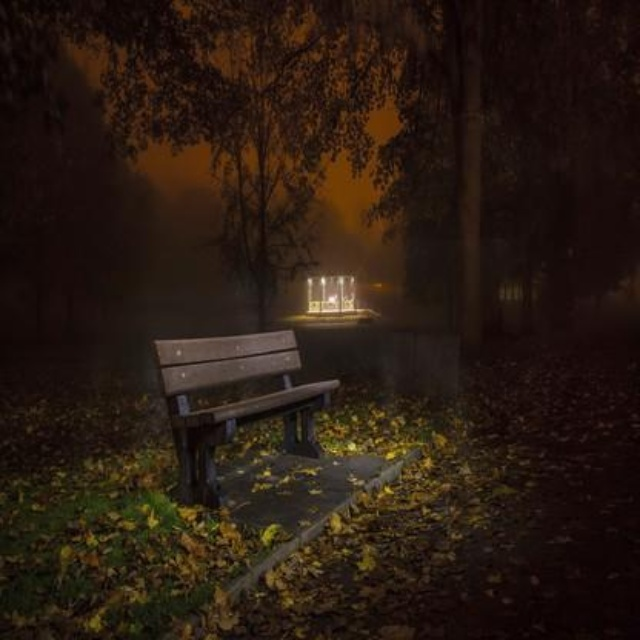obstacle: (142, 318, 352, 494)
